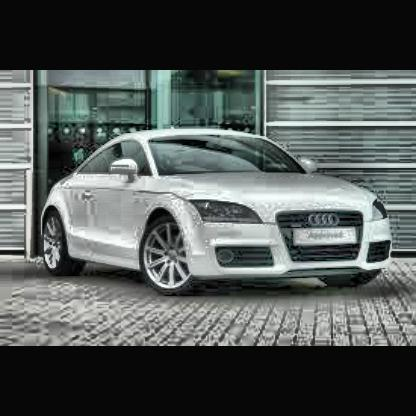Audi TT Hatchback 2011: (42, 127, 397, 299)
